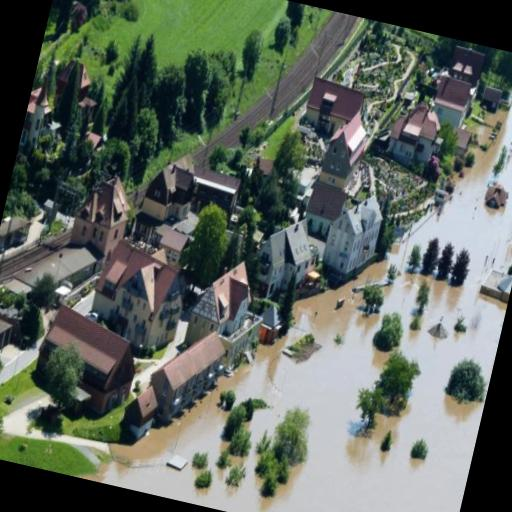flood: (83, 149, 512, 512)
house: (24, 298, 150, 424), (136, 316, 228, 434), (180, 246, 262, 368), (106, 248, 189, 360), (246, 212, 320, 333), (302, 103, 374, 221), (320, 186, 388, 280), (296, 68, 371, 142), (134, 156, 198, 242), (72, 172, 133, 258), (382, 97, 446, 175), (96, 232, 159, 308), (188, 165, 244, 218), (426, 74, 476, 132), (152, 204, 200, 262), (442, 44, 488, 91), (476, 266, 512, 306)
